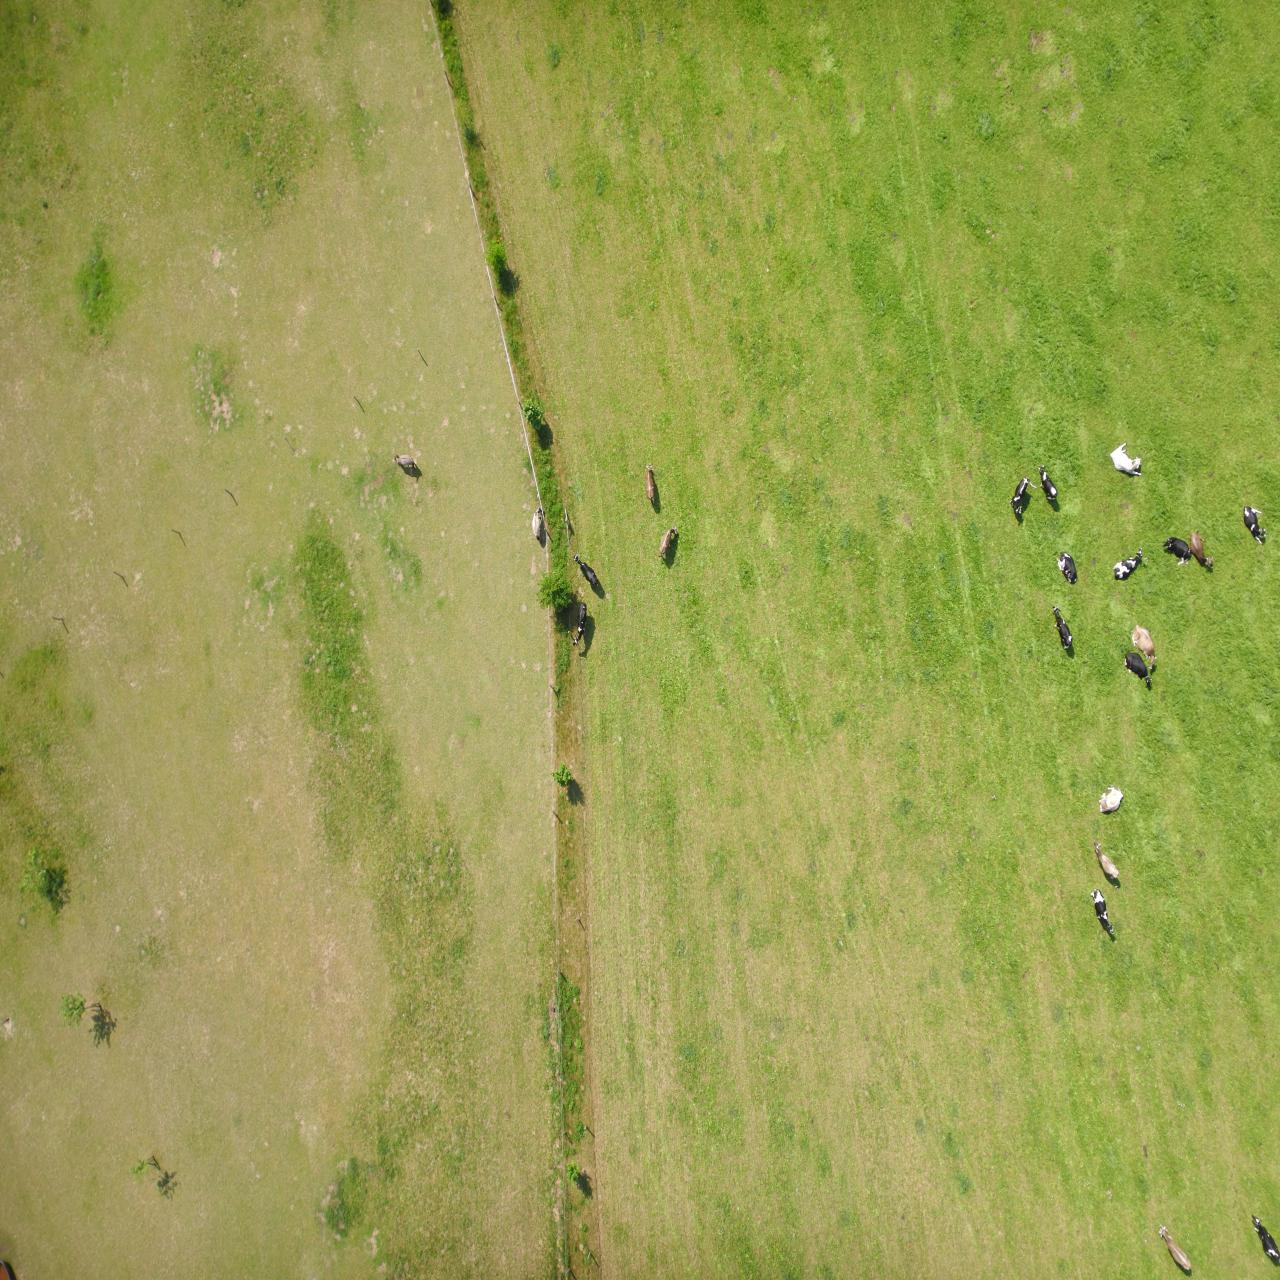cow: (89, 9, 121, 55), (1, 19, 28, 64), (165, 343, 190, 389), (159, 400, 188, 440), (138, 803, 170, 838), (124, 611, 148, 655), (244, 765, 270, 803), (128, 593, 155, 628), (137, 700, 166, 731), (681, 693, 708, 727), (207, 631, 229, 674), (14, 734, 36, 774), (88, 714, 116, 744), (67, 712, 90, 747), (223, 779, 243, 816), (157, 467, 182, 495), (693, 633, 707, 679), (602, 721, 621, 754), (203, 697, 223, 728), (625, 776, 635, 816)
